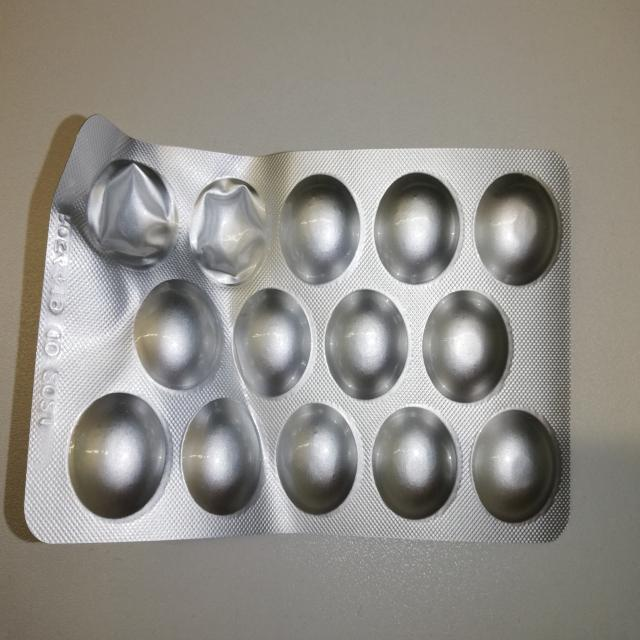Empty: (76, 152, 180, 267), (186, 172, 274, 286)
Pill: (64, 390, 170, 522), (472, 406, 564, 526), (372, 168, 464, 287), (180, 396, 268, 520), (474, 168, 564, 288), (370, 403, 460, 522), (132, 278, 225, 392), (423, 288, 512, 404), (274, 401, 361, 518), (323, 288, 411, 401), (277, 172, 364, 286), (232, 288, 317, 398)
